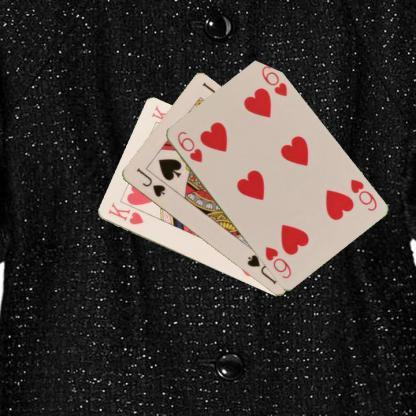6h: (347, 176, 378, 213), (174, 128, 204, 164)
Js: (134, 164, 166, 198)
Kh: (105, 199, 145, 226)
